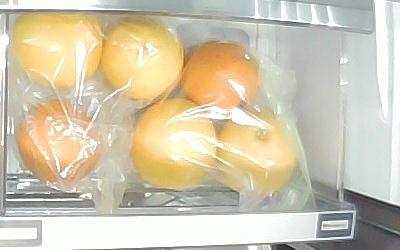grapefruit_vinyl: (17, 96, 105, 186), (130, 98, 217, 189), (101, 16, 184, 104), (14, 10, 103, 90), (218, 107, 297, 195), (182, 40, 261, 113)
